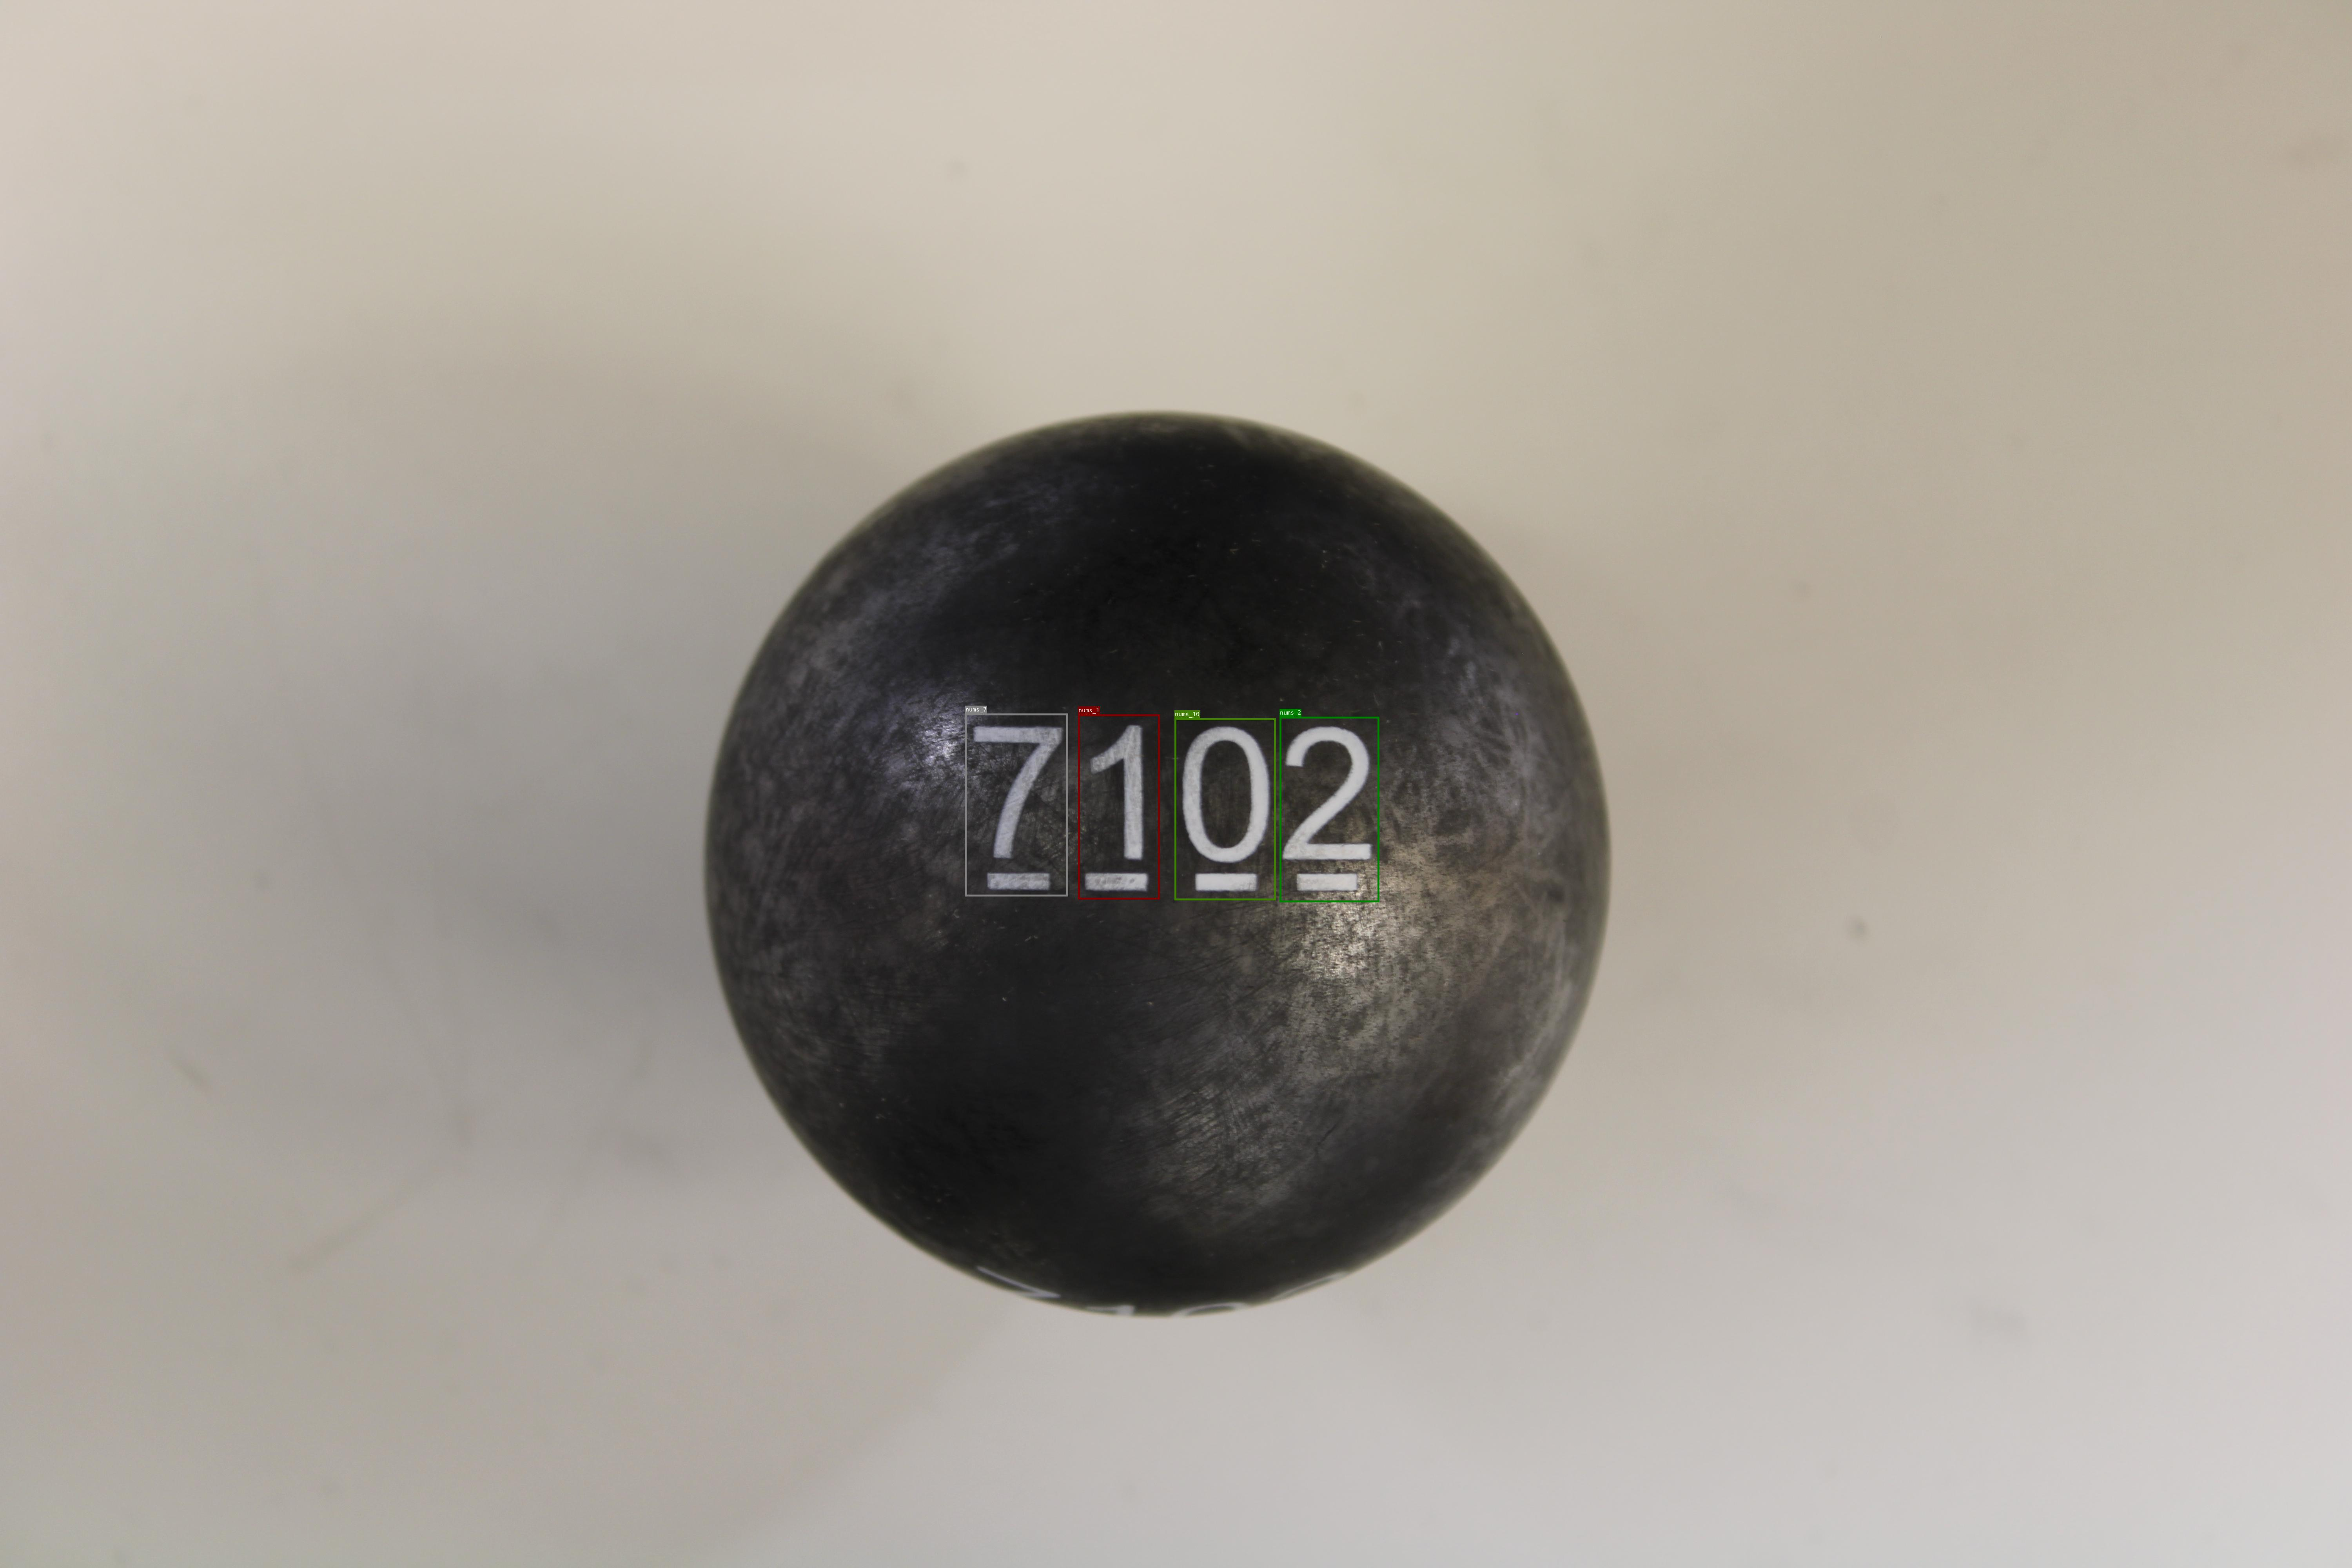nums_1: (1078, 714, 1160, 900)
nums_10: (1174, 717, 1276, 900)
nums_2: (1279, 716, 1379, 901)
nums_7: (964, 714, 1067, 896)
